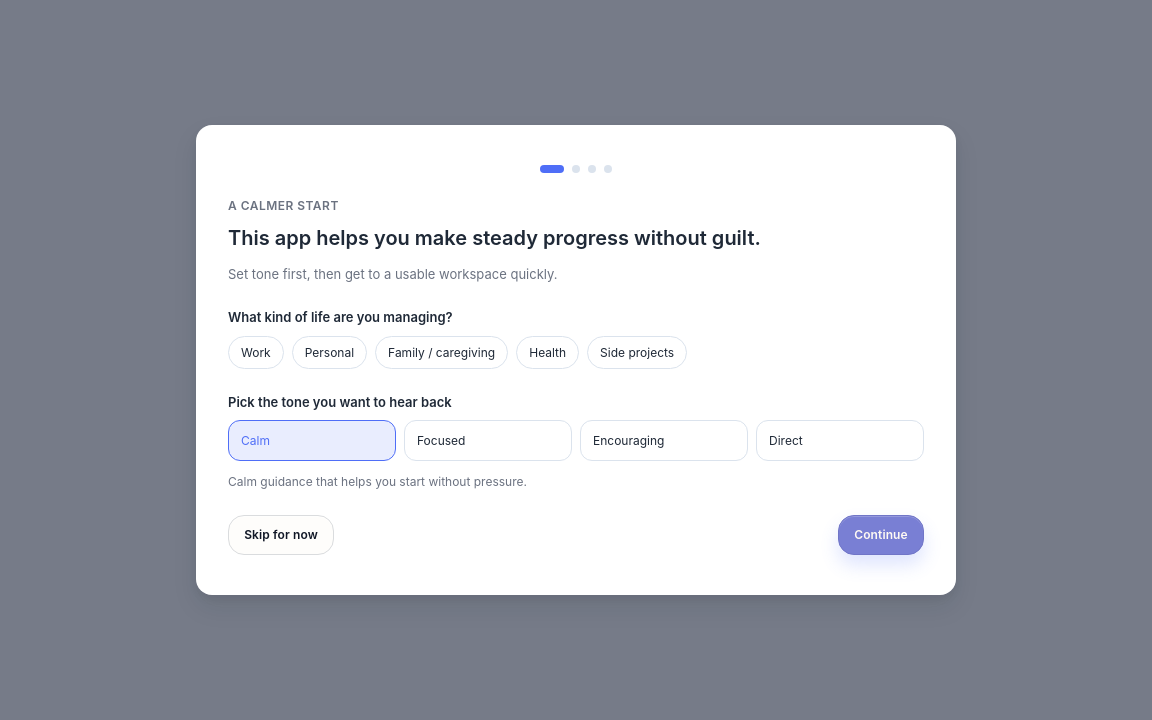
Test: OnboardingFlow › error handling › shows error message when step persistence fails
The image size is (1152, 720).
Click the button "Continue" at (881, 535), box [838, 515, 924, 555]
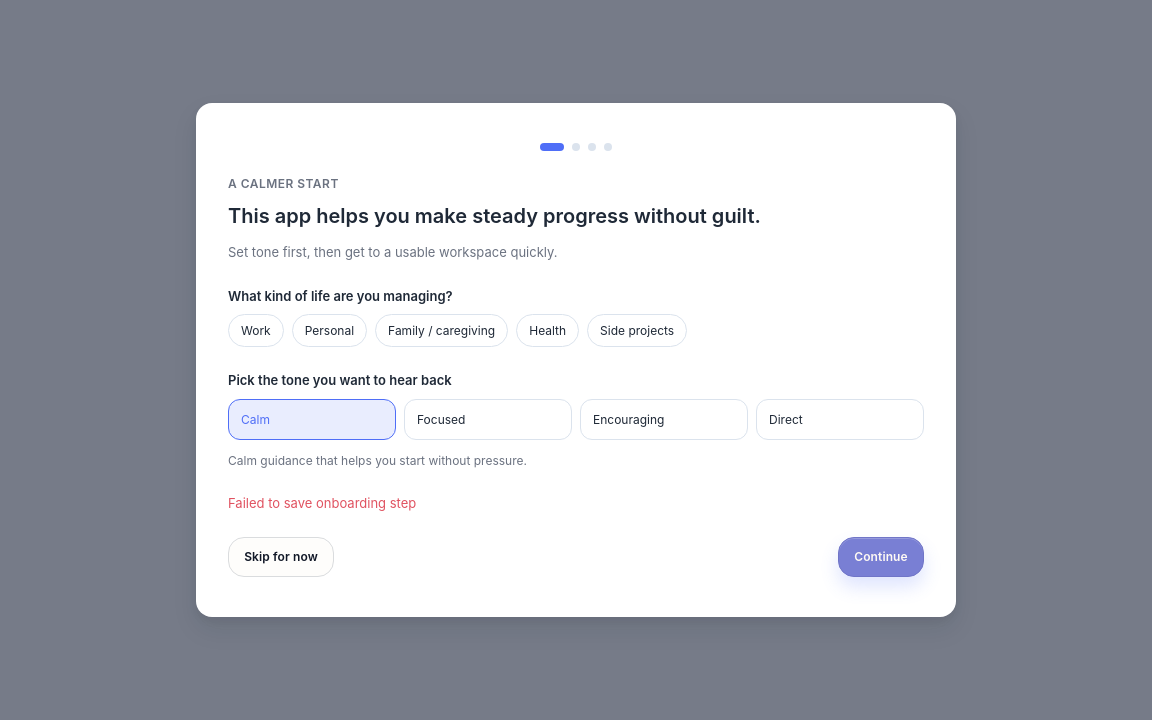
Check: the text "Failed to save onboarding step" is shown, box [228, 494, 416, 510]
